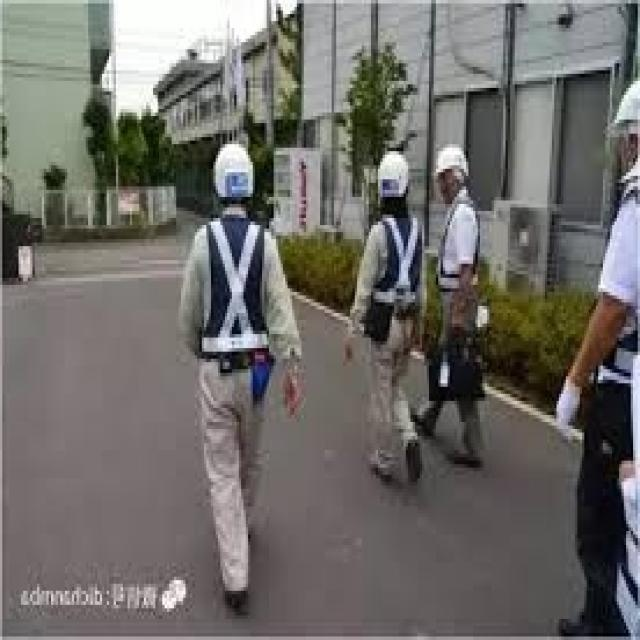Con_Chaleco: (200, 211, 267, 359), (371, 219, 420, 333)
